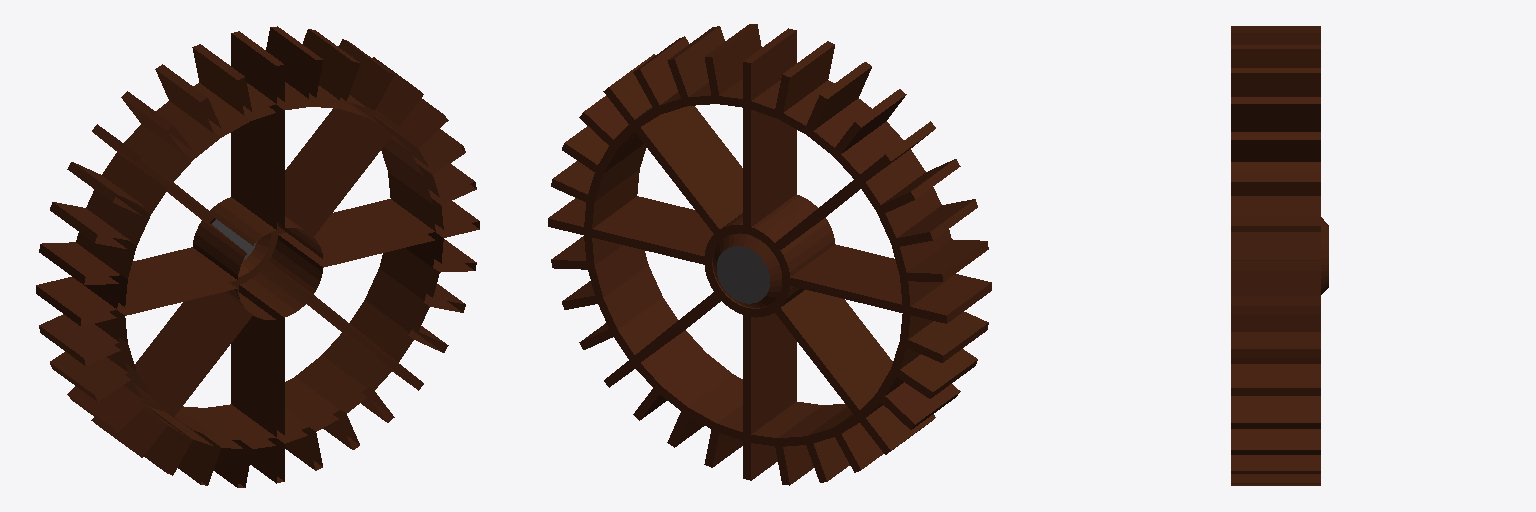
The picture shows the model from 3 angles: view 1: azimuth 30°, elevation 25°; view 2: azimuth 150°, elevation 25°; view 3: azimuth 270°, elevation 25°; orthographic projection.
Visible parts, largest first — view 1: 円.001; view 2: 円.001; view 3: 円.001.
Boxes of the visible parts, x1,y1,x2,y2 form: 円.001: [36, 26, 479, 487]; 円.001: [548, 24, 991, 485]; 円.001: [1231, 26, 1328, 485].
Size of the model in its own units: 2 by 2 by 0.4256.
Materials: 1 (1 with a texture image).